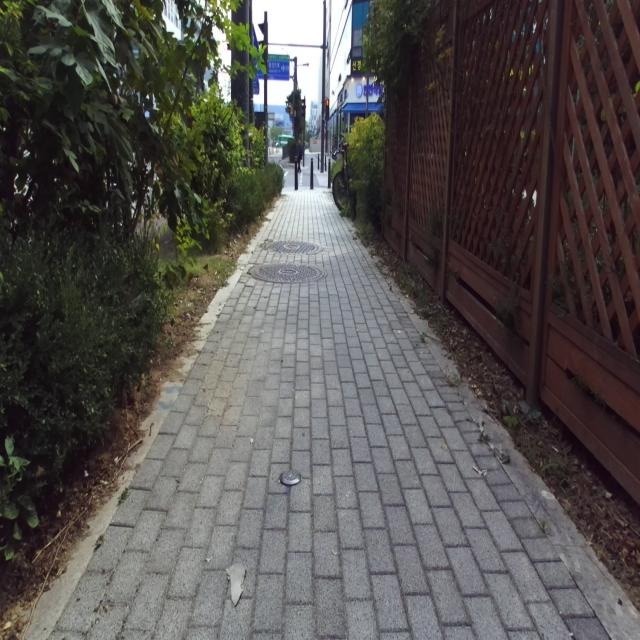빨간불: (325, 99, 330, 121)
